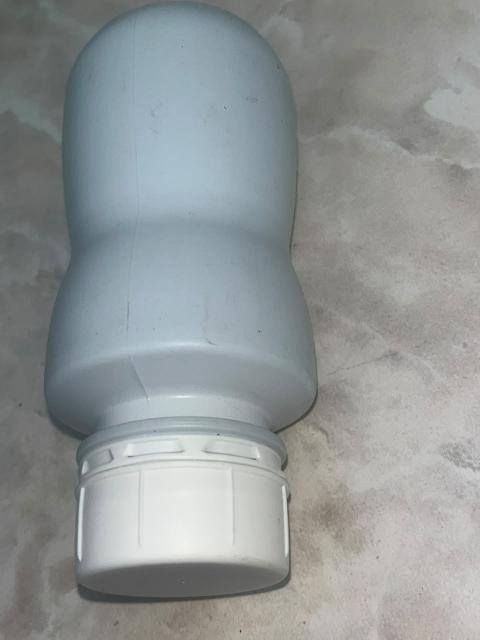HDPE: (3, 0, 346, 598)
